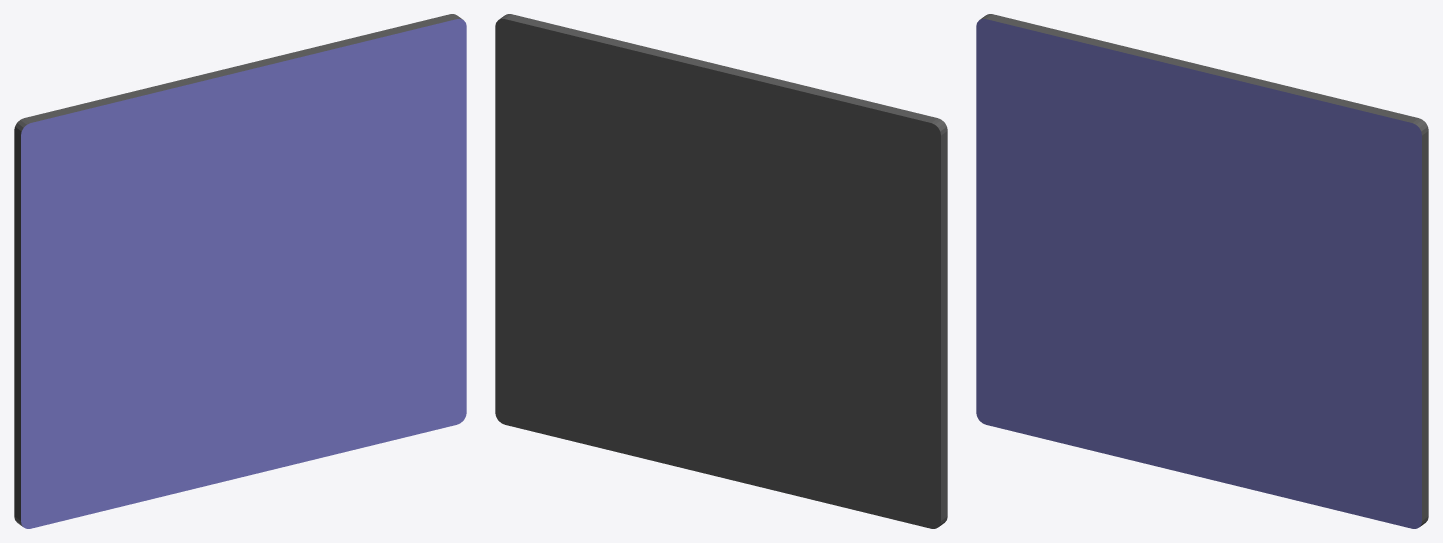
Rendered from MOUSEPAD.glb.
The picture shows the model from 3 angles, left to right: view 1: azimuth 30°, elevation 25°; view 2: azimuth 150°, elevation 25°; view 3: azimuth 330°, elevation 25°; orthographic projection.
Parts seen in each view (by area): view 1: _0; view 2: _0; view 3: _0.
Boxes of the visible parts, x1,y1,x2,y2 form: _0: (14, 14, 466, 528); _0: (495, 14, 947, 528); _0: (976, 14, 1428, 528).
Size of the model in its own units: 8 by 6.96 by 0.2087.
